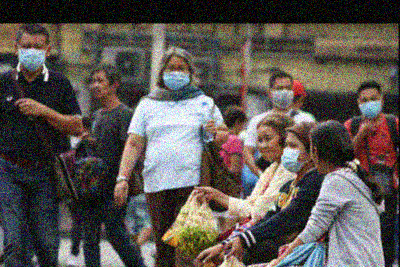with_mask: (17, 40, 45, 74), (280, 139, 304, 175), (160, 63, 188, 91), (357, 95, 381, 120), (269, 84, 293, 109)
without_mask: (255, 133, 282, 161), (89, 75, 112, 99)
